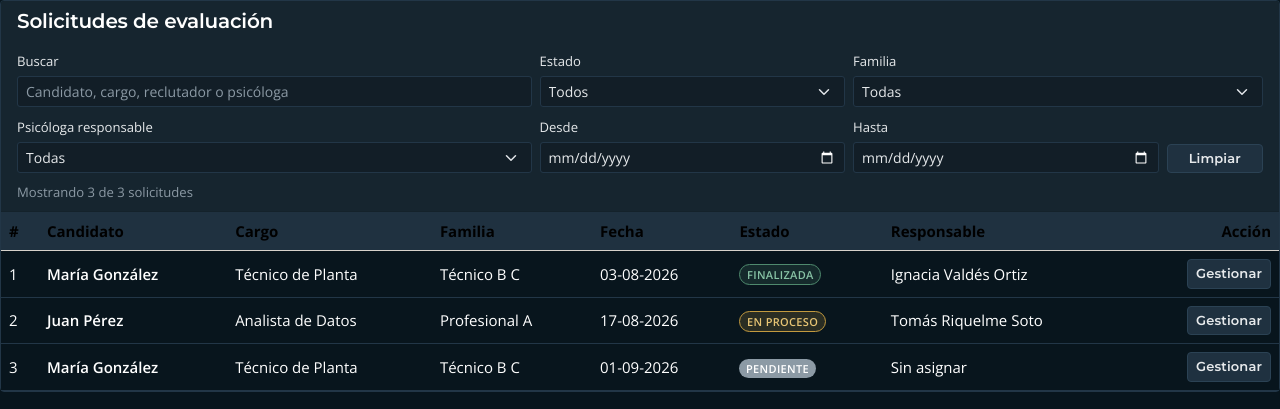
ListaSolicitudes › filtra por familia de cargo
Select "Profesional A" in the dropdown labelled "Familia": coordinates (1058, 92) [853, 76, 1263, 107]
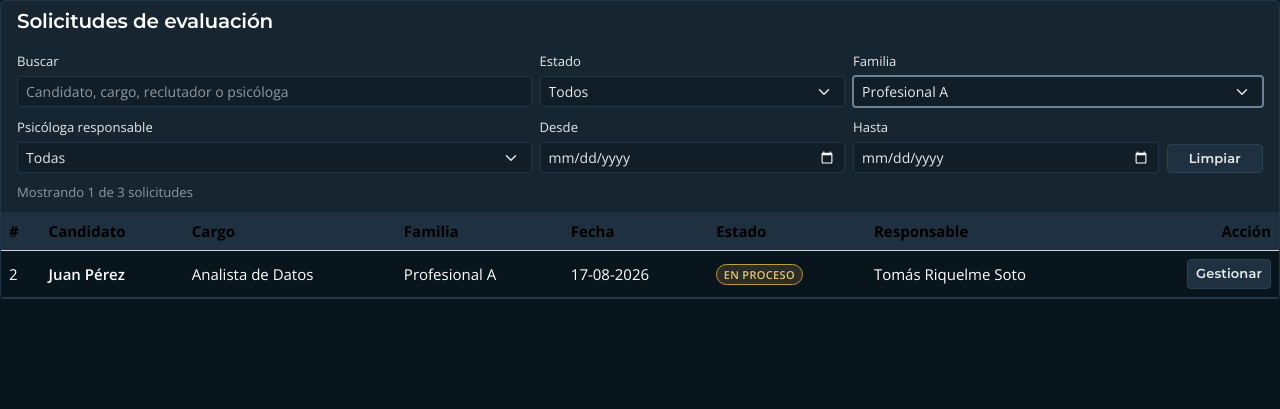
expect the text "Juan Pérez" is shown: met, box [41, 250, 184, 297]
expect the text "03-08-2026" is gone: met
